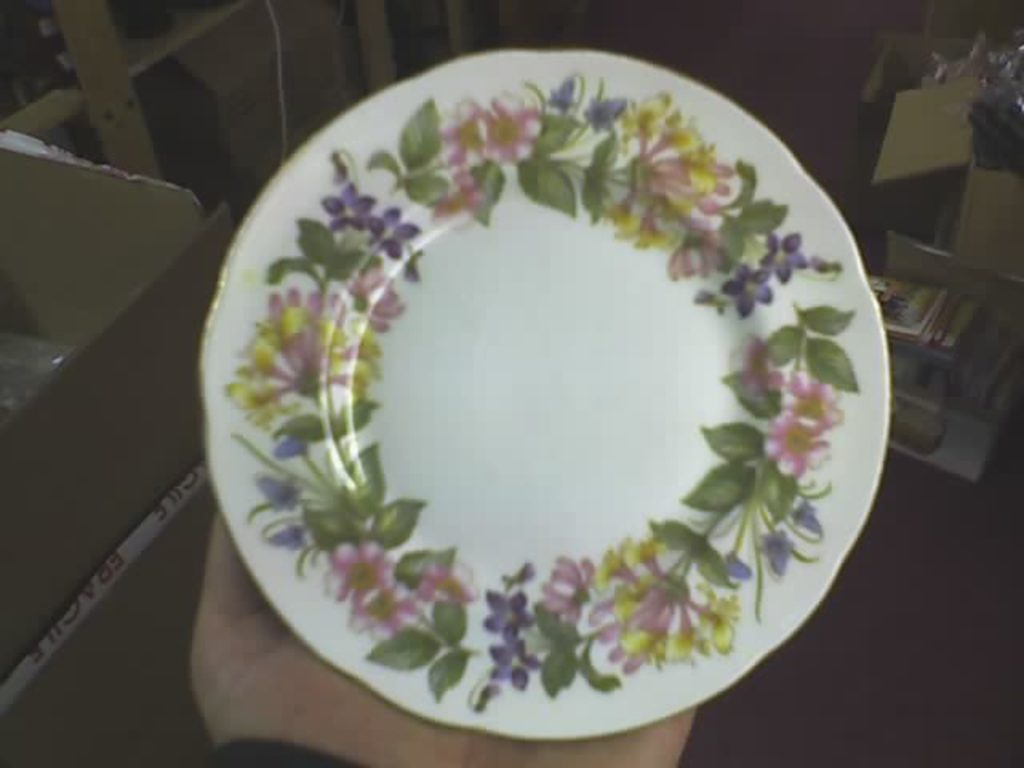plate: (198, 49, 889, 739)
